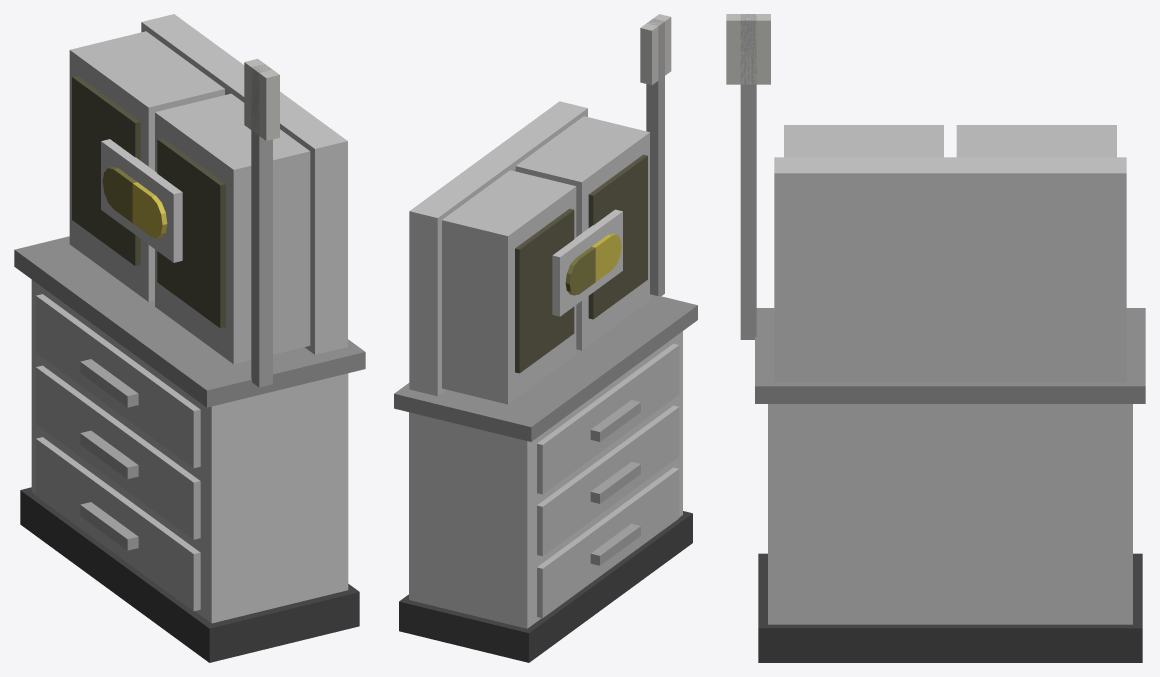
The model's file is SM_SurvivalMedStation.glb.
The picture shows the model from 3 angles, left to right: view 1: azimuth 30°, elevation 25°; view 2: azimuth 150°, elevation 25°; view 3: azimuth 270°, elevation 25°; orthographic projection. The views are drawn at different scales.
Visible parts, largest first — view 1: counter_body, upper_case1, worktop, plinth, upper_back, upper_case0, drawer0, drawer2, drawer1, glass1, glass0, iv_pole (+9 smaller); view 2: counter_body, upper_case0, worktop, upper_back, plinth, upper_case1, drawer2, drawer0, drawer1, glass0, glass1, iv_pole (+8 smaller); view 3: counter_body, upper_back, plinth, worktop, iv_pole, upper_case0, upper_case1, iv_bag.
Boxes of the visible parts, x1=… form: counter_body: x1=31, y1=280, x2=348, y2=623; upper_case1: x1=155, y1=93, x2=310, y2=364; worktop: x1=14, y1=236, x2=365, y2=407; plinth: x1=20, y1=487, x2=359, y2=662; upper_back: x1=141, y1=14, x2=347, y2=354; upper_case0: x1=69, y1=31, x2=224, y2=301; drawer0: x1=36, y1=437, x2=200, y2=611; drawer2: x1=36, y1=294, x2=200, y2=468; drawer1: x1=36, y1=365, x2=200, y2=539; glass1: x1=157, y1=138, x2=225, y2=328; glass0: x1=72, y1=75, x2=140, y2=265; iv_pole: x1=251, y1=64, x2=272, y2=387; counter_body: x1=409, y1=331, x2=682, y2=628; upper_case0: x1=442, y1=170, x2=576, y2=404; worktop: x1=394, y1=294, x2=697, y2=441; upper_back: x1=409, y1=101, x2=587, y2=396; plinth: x1=399, y1=511, x2=692, y2=662; upper_case1: x1=515, y1=116, x2=649, y2=350; drawer2: x1=537, y1=343, x2=679, y2=494; drawer0: x1=537, y1=467, x2=679, y2=618; drawer1: x1=537, y1=405, x2=679, y2=556; glass0: x1=515, y1=208, x2=574, y2=373; glass1: x1=588, y1=154, x2=647, y2=319; iv_pole: x1=646, y1=18, x2=664, y2=296; counter_body: x1=768, y1=404, x2=1132, y2=624; upper_back: x1=774, y1=157, x2=1126, y2=382; plinth: x1=758, y1=553, x2=1142, y2=662; worktop: x1=755, y1=308, x2=1145, y2=403; iv_pole: x1=740, y1=14, x2=756, y2=339; upper_case0: x1=956, y1=125, x2=1116, y2=157; upper_case1: x1=784, y1=125, x2=943, y2=157; iv_bag: x1=726, y1=14, x2=770, y2=84.
Bounding box in the file's own units: 0.605 × 2.05 × 1.31.
